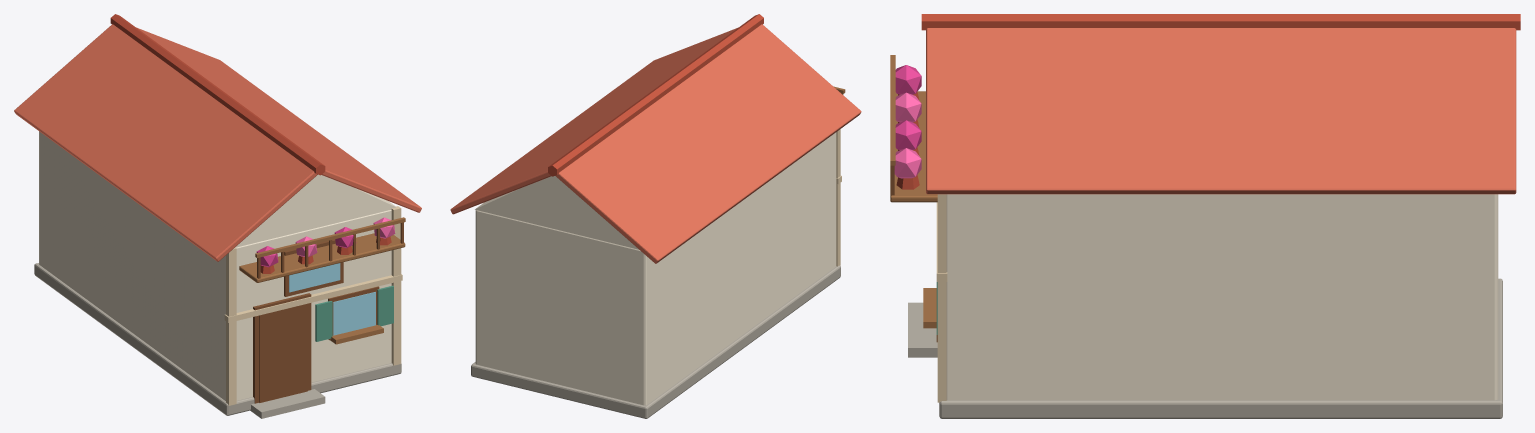
Rendered from nha-ong.glb.
3 views of the same model, side by side, from view 1: azimuth 30°, elevation 25°; view 2: azimuth 150°, elevation 25°; view 3: azimuth 270°, elevation 25° (orthographic). The views are drawn at different scales.
Visible parts, largest first — view 1: nha-ong-0, nha-ong-6, nha-ong-7, nha-ong-5, nha-ong-10, nha-ong-1, nha-ong-8, nha-ong-19, nha-ong-3, nha-ong-13, nha-ong-2, nha-ong-4 (+9 smaller); view 2: nha-ong-0, nha-ong-6, nha-ong-7, nha-ong-1, nha-ong-5, nha-ong-8, nha-ong-3; view 3: nha-ong-0, nha-ong-7, nha-ong-1, nha-ong-8, nha-ong-4, nha-ong-19, nha-ong-11, nha-ong-35, nha-ong-31, nha-ong-29, nha-ong-33, nha-ong-20 (+1 smaller).
Boxes of the visible parts, x1=… form: nha-ong-0: x1=39, y1=131, x2=391, y2=400; nha-ong-6: x1=14, y1=24, x2=317, y2=261; nha-ong-7: x1=136, y1=27, x2=421, y2=212; nha-ong-5: x1=235, y1=174, x2=395, y2=247; nha-ong-10: x1=259, y1=303, x2=307, y2=402; nha-ong-1: x1=34, y1=263, x2=401, y2=415; nha-ong-8: x1=110, y1=14, x2=325, y2=175; nha-ong-19: x1=239, y1=233, x2=405, y2=282; nha-ong-3: x1=226, y1=247, x2=236, y2=405; nha-ong-13: x1=333, y1=292, x2=375, y2=335; nha-ong-2: x1=224, y1=274, x2=402, y2=322; nha-ong-4: x1=391, y1=206, x2=401, y2=365; nha-ong-0: x1=475, y1=132, x2=836, y2=405; nha-ong-6: x1=555, y1=24, x2=861, y2=263; nha-ong-7: x1=450, y1=27, x2=738, y2=214; nha-ong-1: x1=471, y1=265, x2=840, y2=418; nha-ong-5: x1=475, y1=176, x2=638, y2=249; nha-ong-8: x1=548, y1=14, x2=763, y2=176; nha-ong-3: x1=836, y1=129, x2=840, y2=266; nha-ong-0: x1=946, y1=194, x2=1498, y2=400; nha-ong-7: x1=926, y1=28, x2=1516, y2=194; nha-ong-1: x1=939, y1=278, x2=1502, y2=418; nha-ong-8: x1=921, y1=14, x2=1520, y2=30; nha-ong-4: x1=937, y1=194, x2=946, y2=402; nha-ong-19: x1=890, y1=91, x2=937, y2=202; nha-ong-11: x1=908, y1=302, x2=937, y2=357; nha-ong-35: x1=894, y1=148, x2=921, y2=178; nha-ong-31: x1=895, y1=92, x2=921, y2=122; nha-ong-29: x1=895, y1=65, x2=921, y2=94; nha-ong-33: x1=895, y1=120, x2=921, y2=150; nha-ong-20: x1=890, y1=55, x2=895, y2=165.
Bounding box in the file's own units: 3.89 × 4.24 × 7.05.
